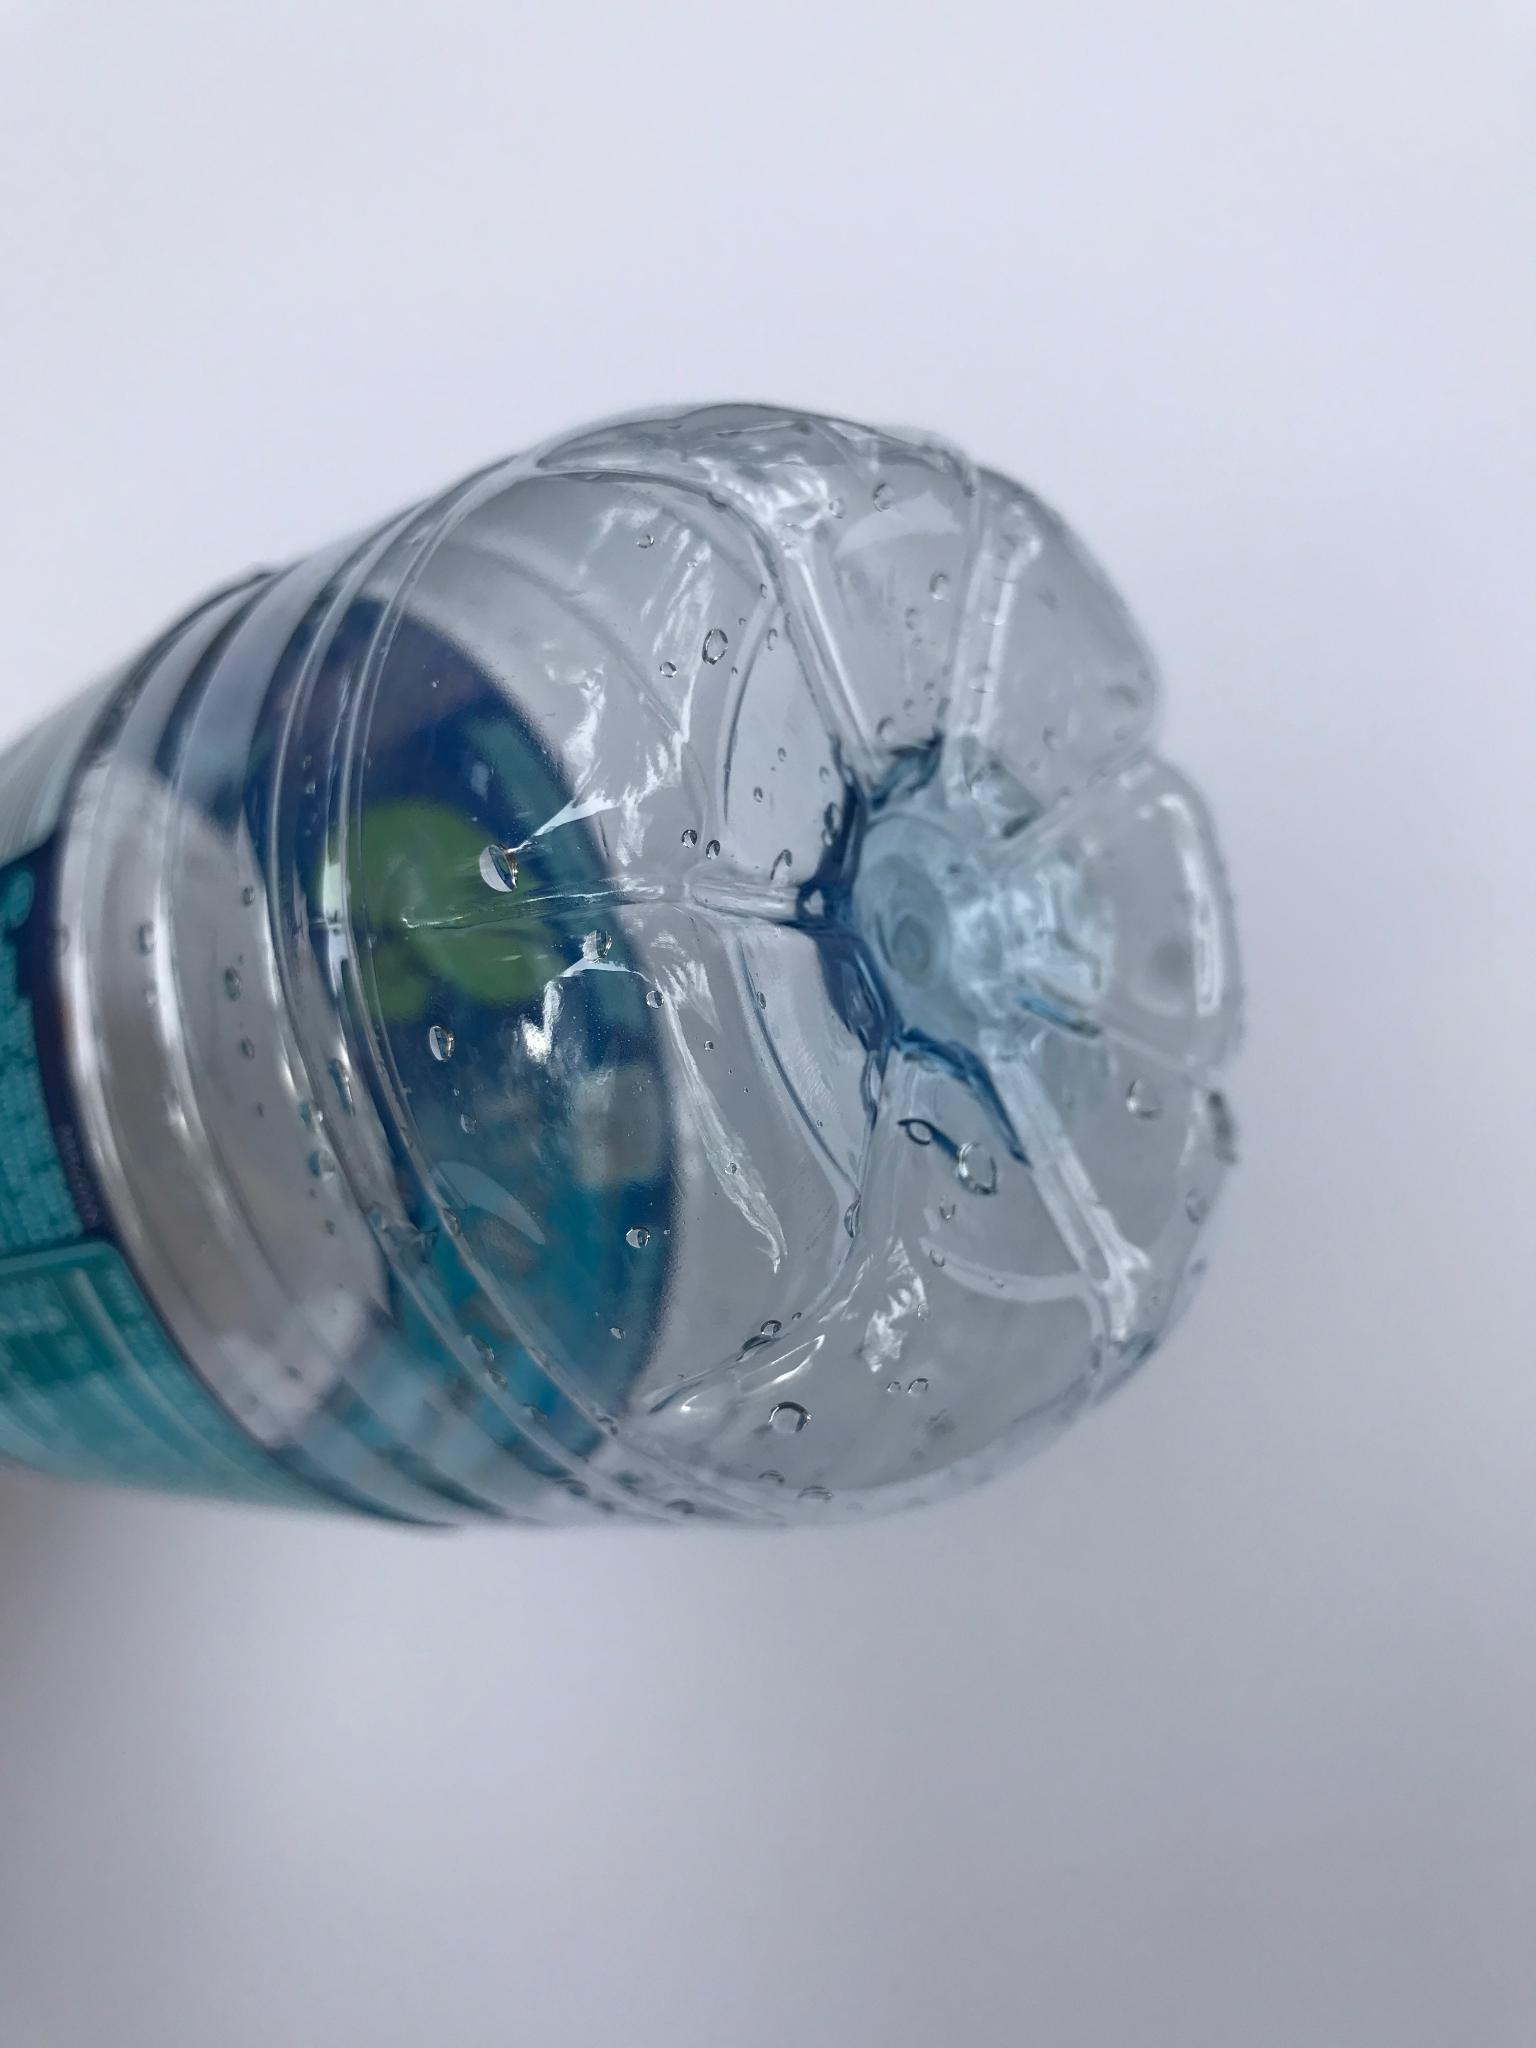Plastic: (7, 381, 1267, 1559)
